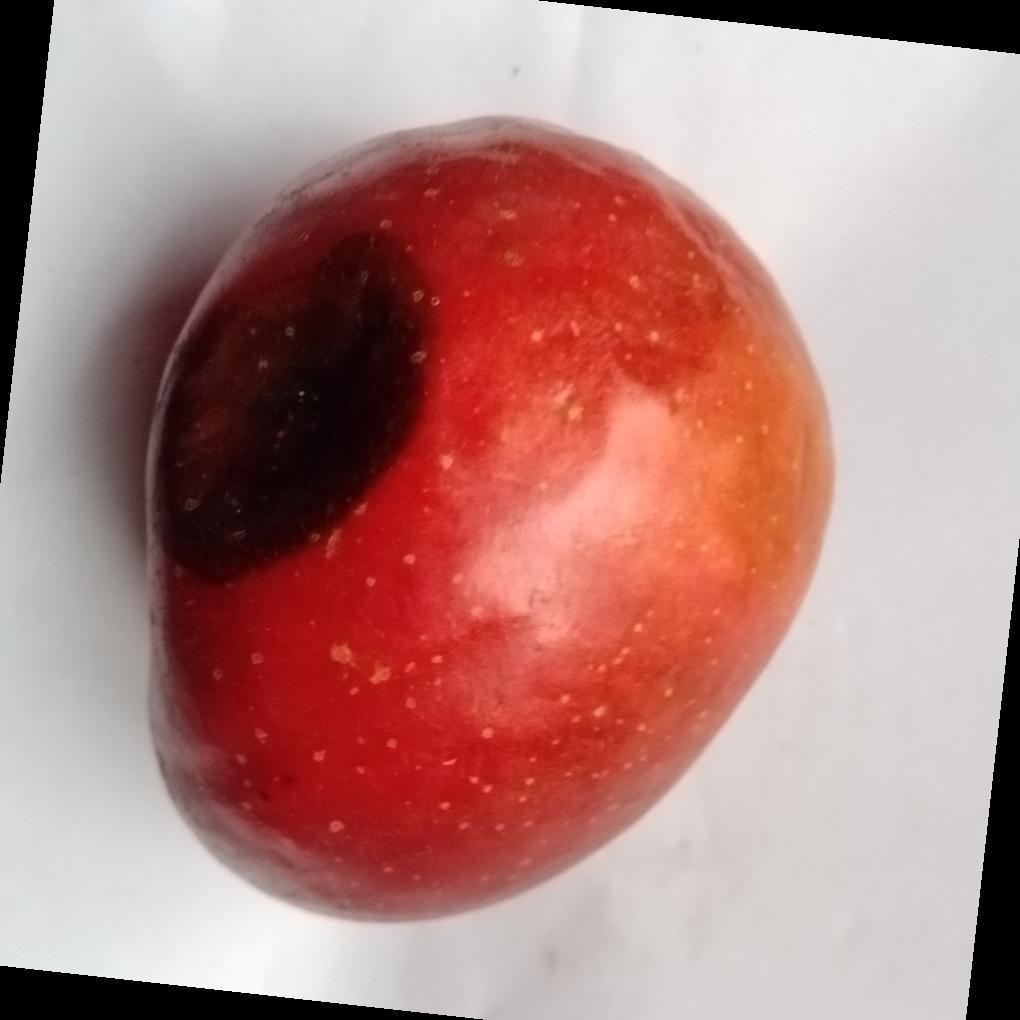FreshOrange: (141, 116, 838, 929)
